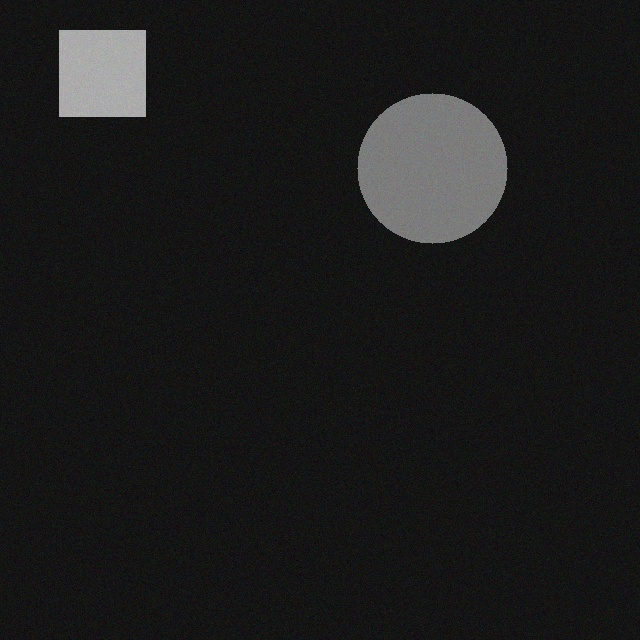circle: (346, 81, 496, 231)
square: (48, 18, 134, 104)
